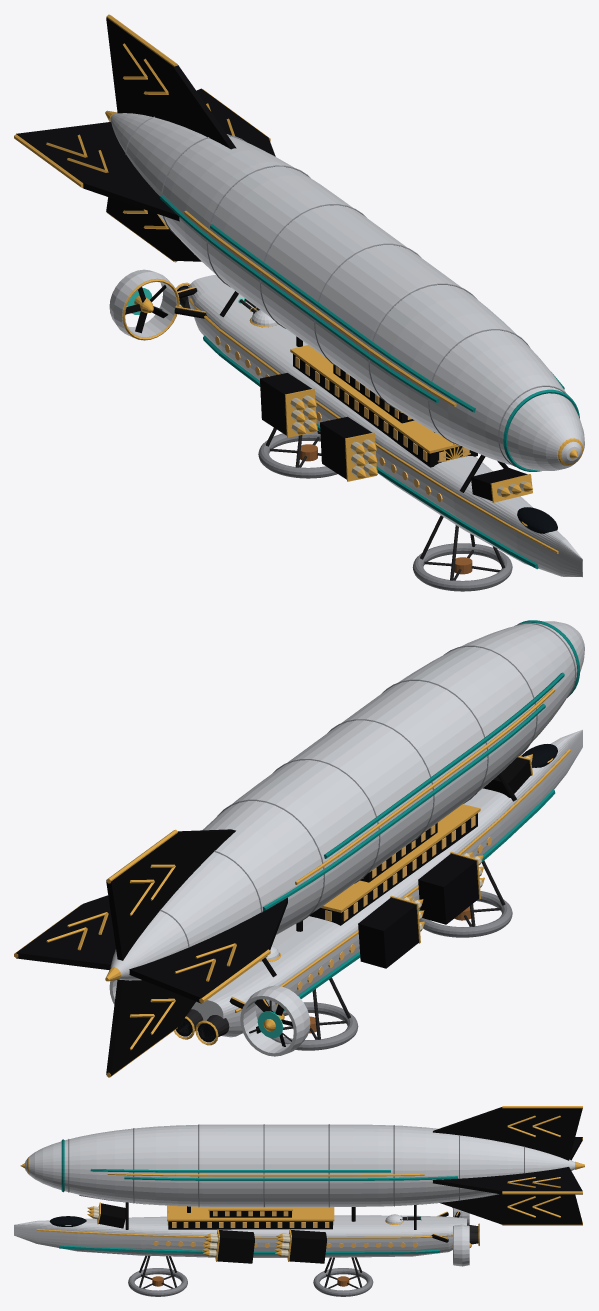
File: destroyer.obj
3 renders of one model, top to bottom at view 1: azimuth 30°, elevation 25°; view 2: azimuth 150°, elevation 25°; view 3: azimuth 270°, elevation 25°, orthographic. The views are drawn at different scales.
Visible parts, largest first — view 1: destroyer; view 2: destroyer; view 3: destroyer.
Part boxes in pixels (bbox=[...]): destroyer: bbox=[14, 14, 584, 591]; destroyer: bbox=[14, 620, 584, 1077]; destroyer: bbox=[14, 1106, 584, 1296].
Bounding box in the file's own units: 128 × 190 × 550.
1 material, 1 textured.
